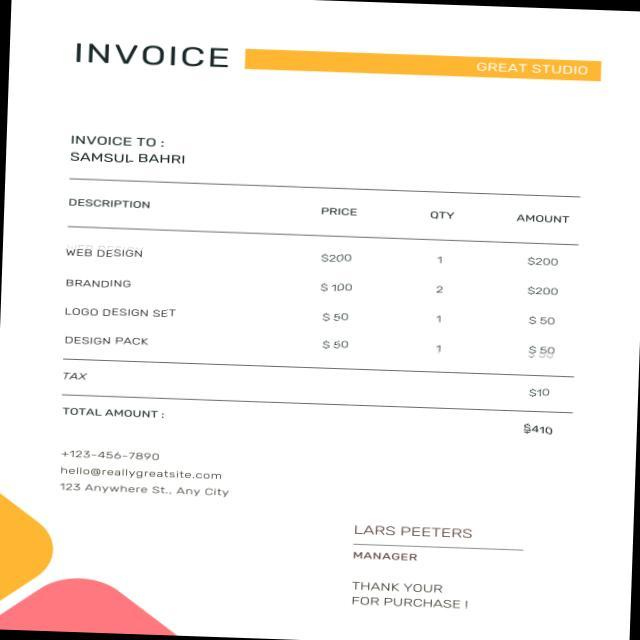customer_name: (66, 148, 191, 171)
invoice_total: (518, 420, 560, 440)
item_description: (60, 240, 186, 353)
item_quantity: (419, 247, 455, 361)
item_total_price: (518, 251, 567, 365)
item_unit_price: (292, 244, 364, 364)
supplier_address: (56, 480, 232, 502)
supplier_name: (468, 56, 600, 82)
tax_amount: (522, 385, 557, 402)
